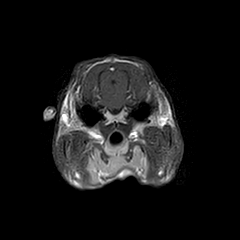Brain: (65, 34, 164, 132)
